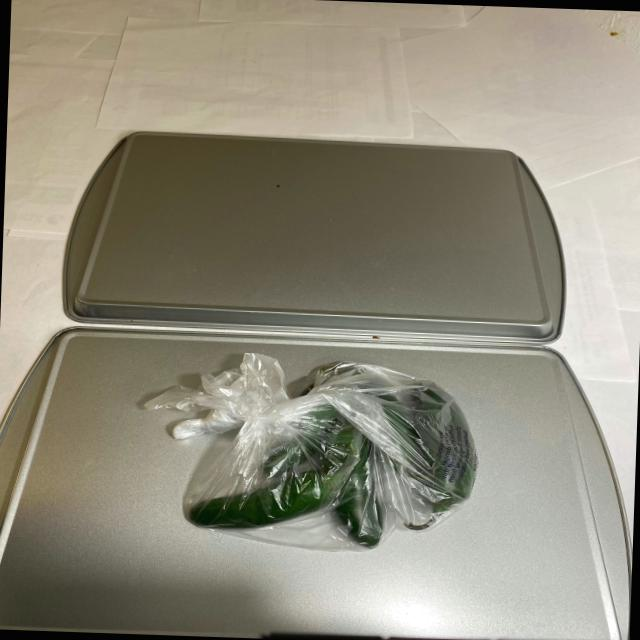chilli: (183, 354, 484, 543)
